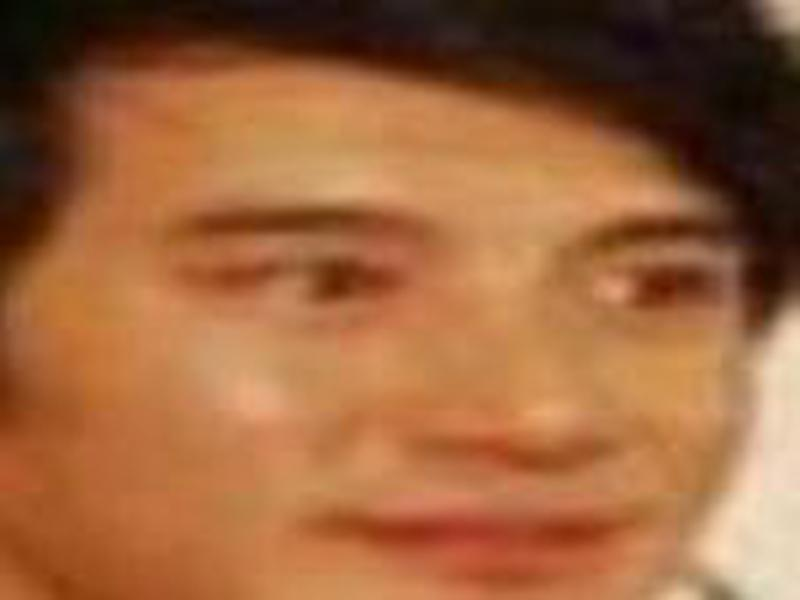without_mask: (37, 62, 768, 600)
